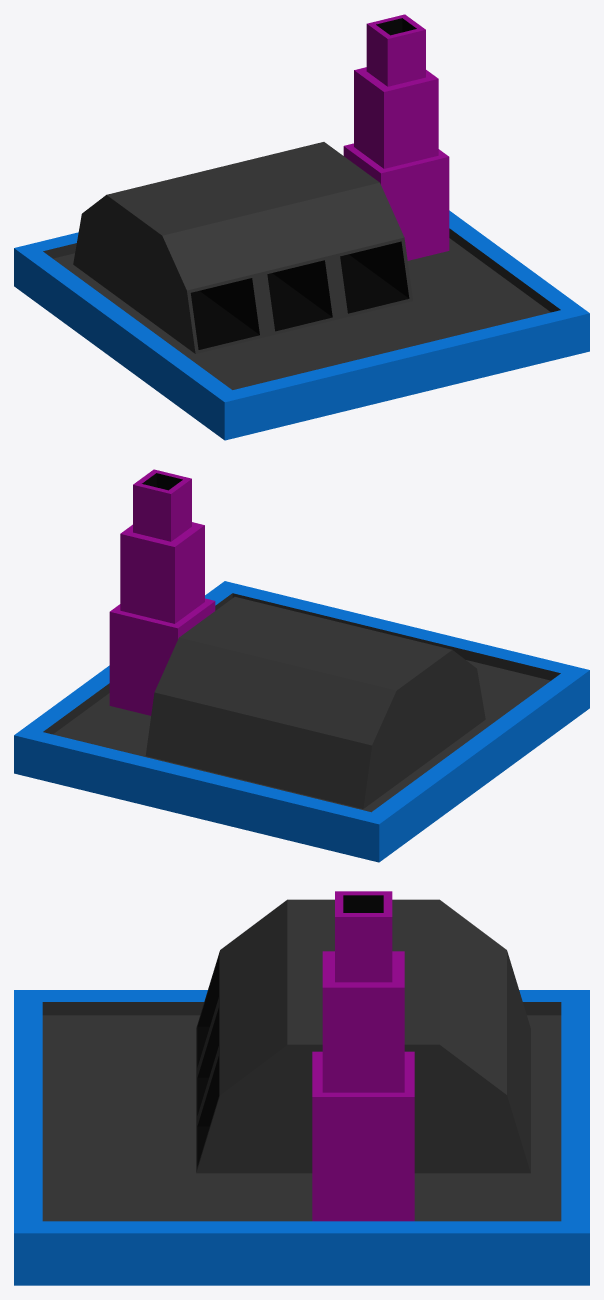
File: building_barracks.fbx
3 views of the same model, one above another, from view 1: azimuth 30°, elevation 25°; view 2: azimuth 150°, elevation 25°; view 3: azimuth 270°, elevation 25° (orthographic). The views are drawn at different scales.
Visible parts, largest first — view 1: Barracks; view 2: Barracks; view 3: Barracks.
Part boxes in pixels (box(x1,y1,x2,y2)): Barracks: box(14, 14, 589, 440); Barracks: box(14, 469, 589, 862); Barracks: box(14, 891, 589, 1285).
Size of the model in its own units: 200 by 129 by 200.
